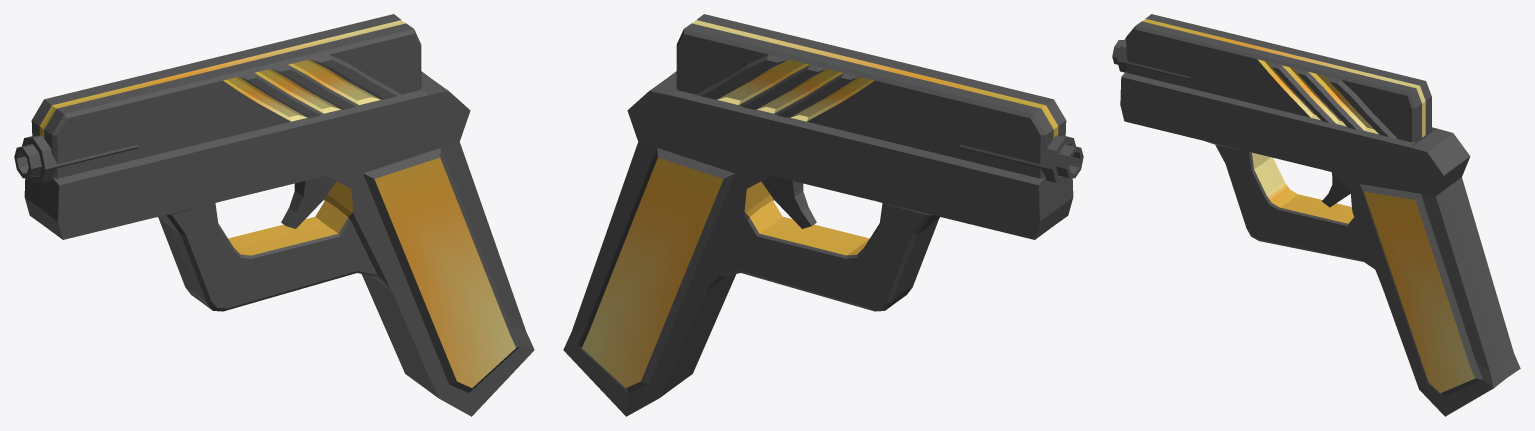
Rendered from wpn_basic.fbx.
The picture shows the model from 3 angles, left to right: view 1: azimuth 30°, elevation 25°; view 2: azimuth 150°, elevation 25°; view 3: azimuth 330°, elevation 25°; orthographic projection. The views are drawn at different scales.
Parts seen in each view (by area): view 1: wpn_basic; view 2: wpn_basic; view 3: wpn_basic.
Boxes of the visible parts, left/top/right/bottom form: wpn_basic: left=14, top=14, right=534, bottom=416; wpn_basic: left=563, top=14, right=1083, bottom=416; wpn_basic: left=1112, top=14, right=1520, bottom=416.
Bounding box in the file's own units: 26.93 × 20.59 × 3.8.
